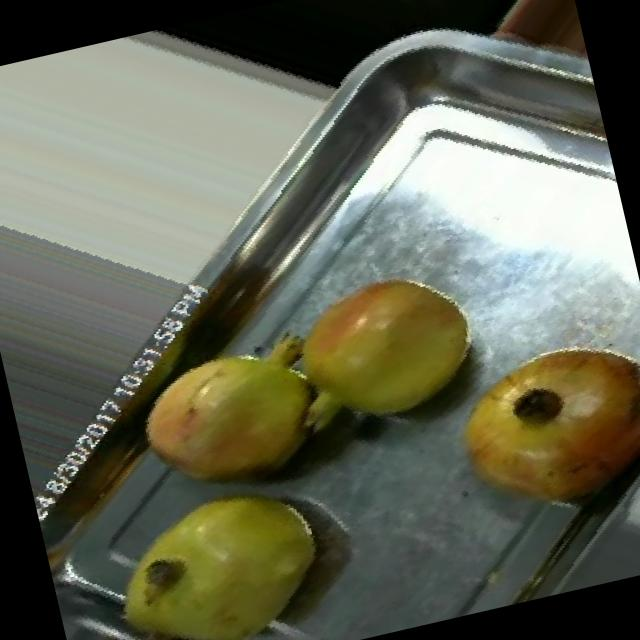fruit: (251, 224, 514, 462), (413, 298, 640, 554), (69, 445, 365, 640), (105, 310, 358, 521)
